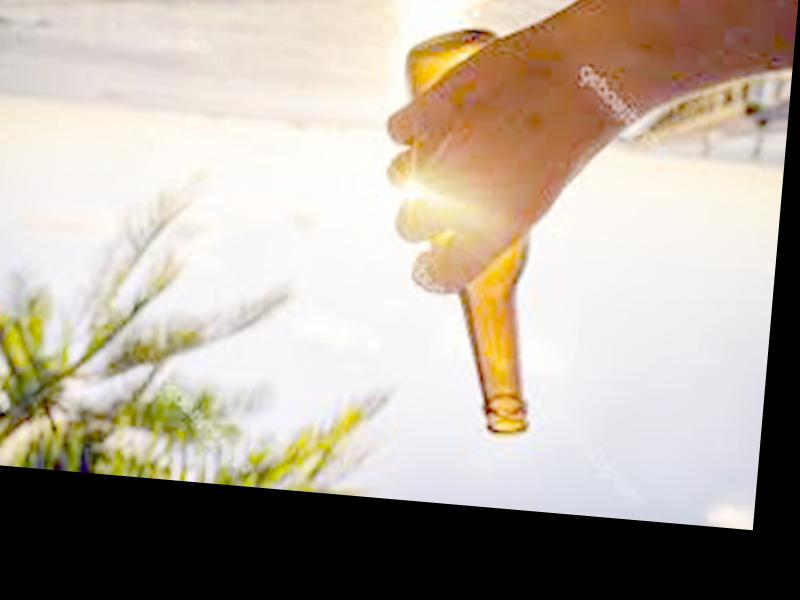Beer: (377, 20, 567, 438)
